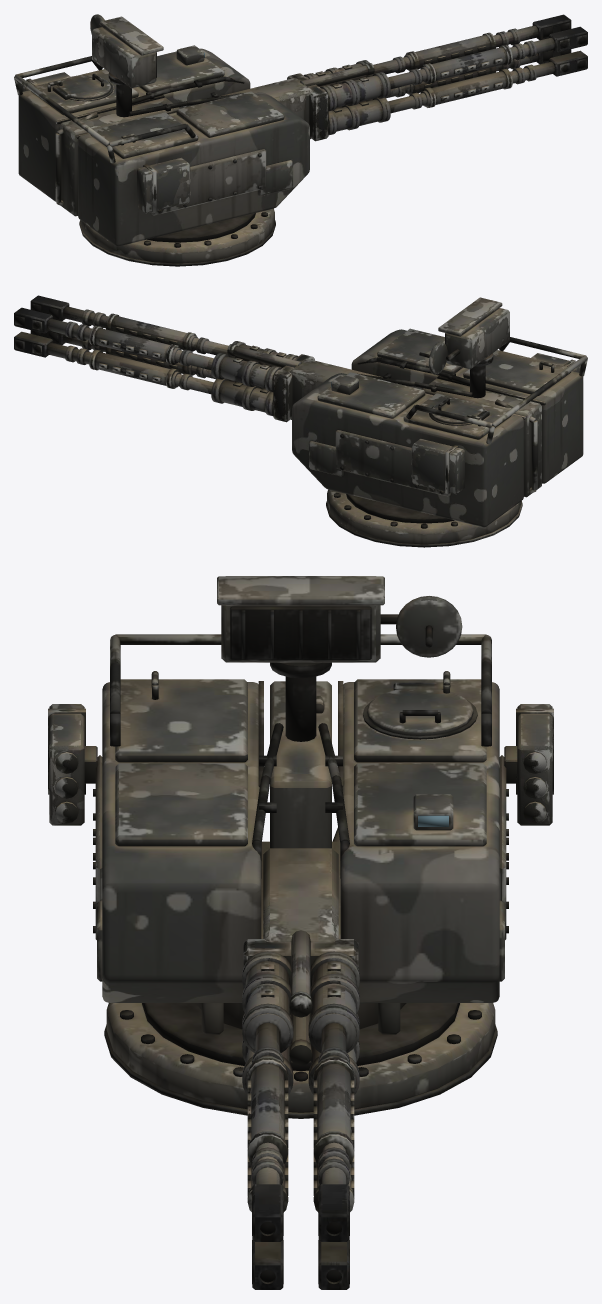
The model's file is turret_kit_quad_ash.glb.
3 views of the same model, one above another, from view 1: azimuth 30°, elevation 25°; view 2: azimuth 150°, elevation 25°; view 3: azimuth 270°, elevation 25° (orthographic). The views are drawn at different scales.
Parts seen in each view (by area): view 1: turret_twin_quad, guns, pods; view 2: turret_twin_quad, guns, pods; view 3: turret_twin_quad, guns, pods.
Part boxes in pixels (x1,y1,x2,y2): turret_twin_quad: (14,14,309,266); guns: (220,14,587,141); pods: (20,72,190,213); turret_twin_quad: (292,297,587,547); guns: (14,295,382,422); pods: (411,353,581,494); turret_twin_quad: (93,576,508,1118); guns: (242,848,359,1289); pods: (48,704,553,825).
Size of the model in its own units: 2.7 by 1.01 by 1.15.
4 materials, 3 textured.
